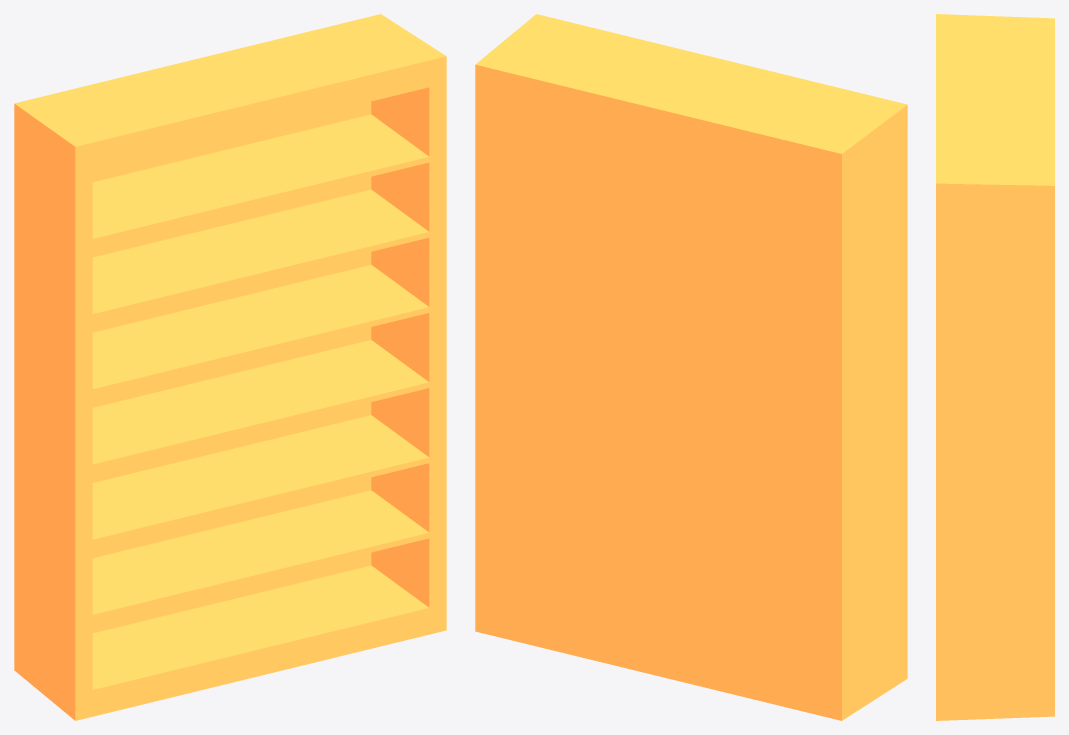
File: shelving.gltf
The picture shows the model from 3 angles, left to right: view 1: azimuth 30°, elevation 25°; view 2: azimuth 150°, elevation 25°; view 3: azimuth 270°, elevation 25°; orthographic projection. The views are drawn at different scales.
Visible parts, largest first — view 1: Cube; view 2: Cube; view 3: Cube.
Boxes of the visible parts, x1,y1,x2,y2 form: Cube: [14, 14, 446, 720]; Cube: [475, 14, 907, 720]; Cube: [936, 14, 1054, 720].
Size of the model in its own units: 2.03 by 2.99 by 0.6.
